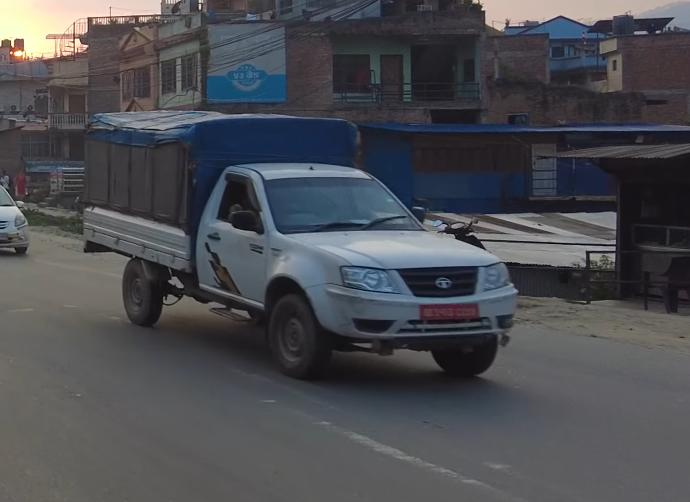taxi: (0, 159, 32, 268)
transport_vehicle: (68, 99, 529, 394)
